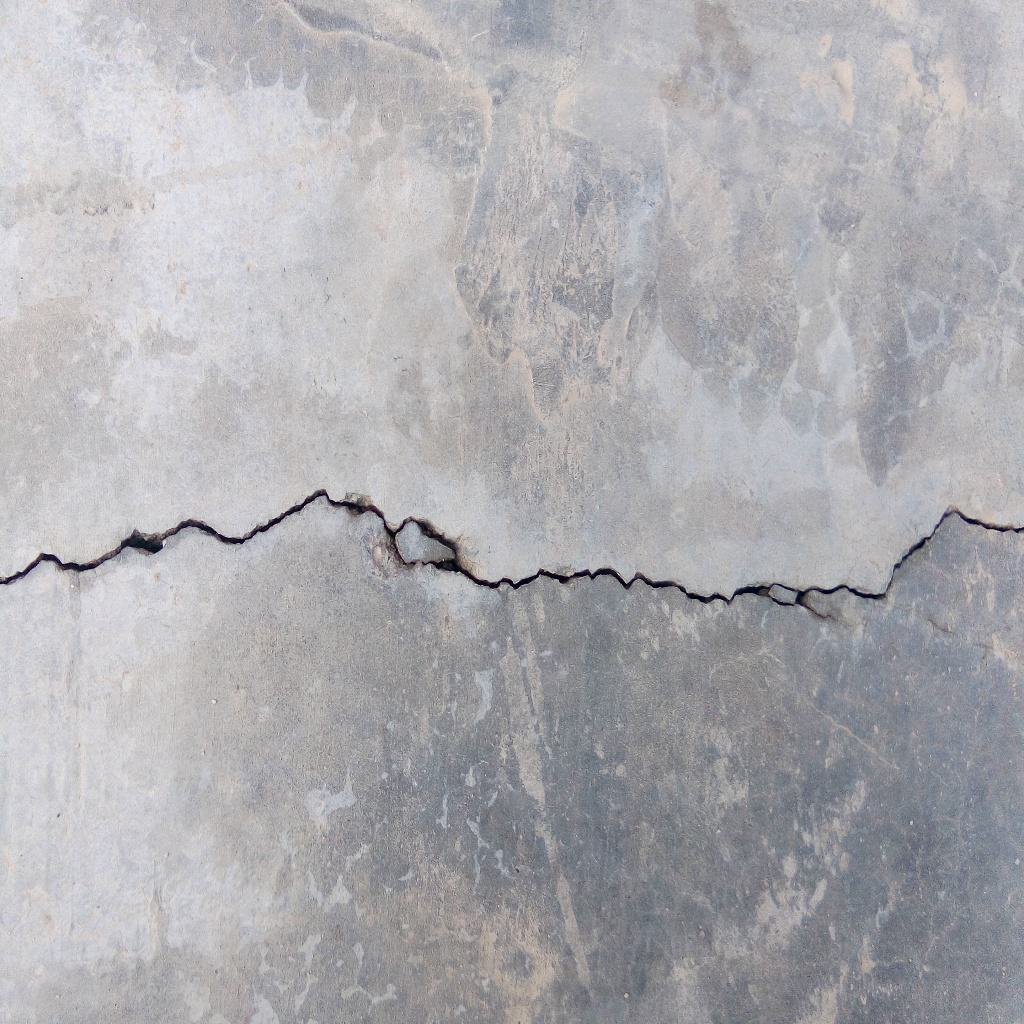Crack: (1, 486, 1024, 623)
